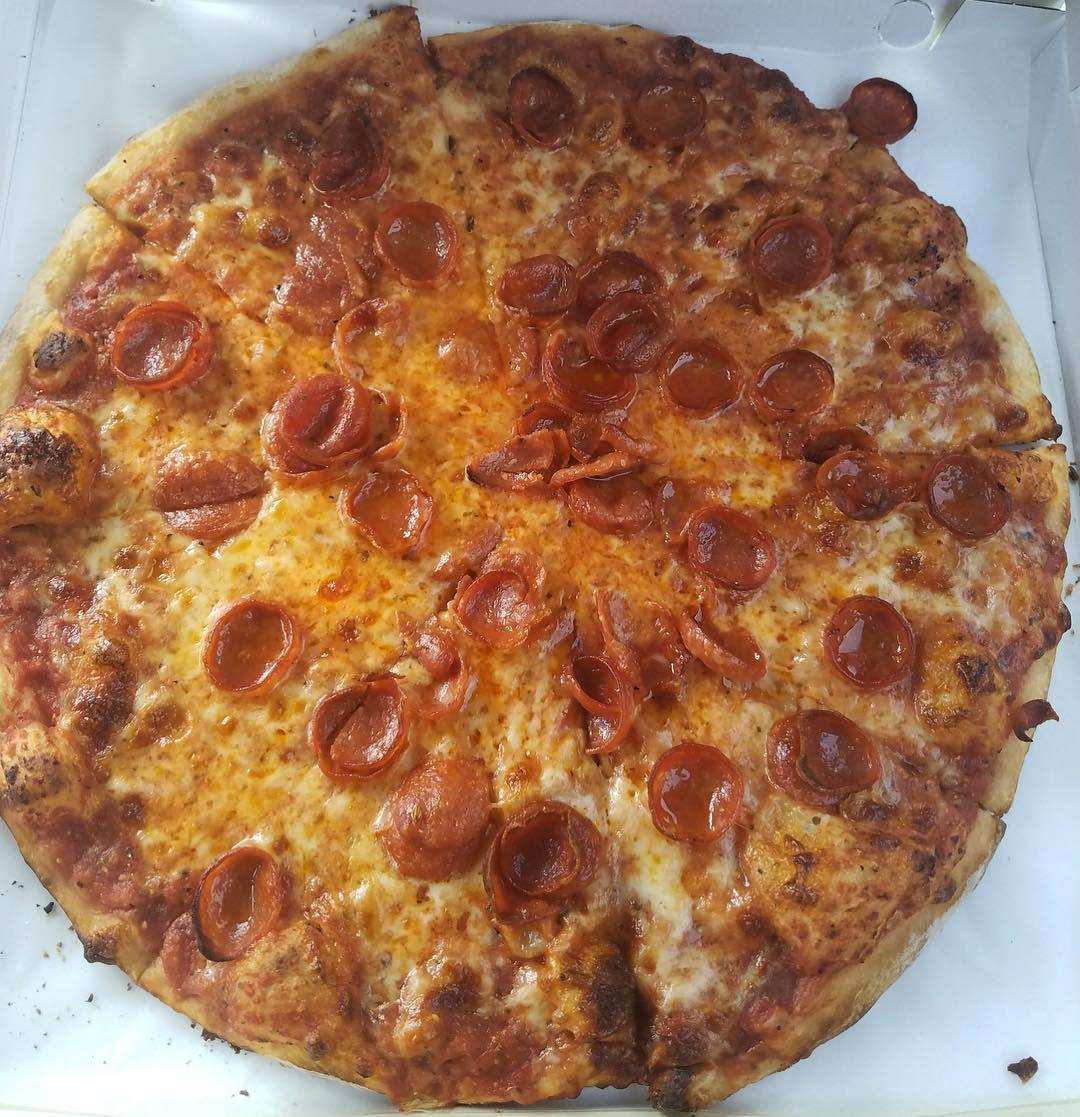Ham: (466, 402, 651, 531), (379, 758, 490, 884), (489, 802, 601, 920), (263, 374, 406, 457), (766, 712, 877, 808), (195, 843, 282, 961), (108, 301, 213, 391), (202, 599, 299, 694), (598, 586, 679, 697), (160, 451, 263, 538), (313, 683, 408, 777), (650, 744, 739, 843), (373, 200, 458, 287), (546, 331, 633, 414), (346, 468, 435, 549), (691, 509, 778, 591), (819, 448, 911, 525), (831, 598, 913, 684), (930, 456, 1012, 539), (310, 113, 389, 199), (586, 294, 674, 370), (567, 658, 634, 752), (662, 340, 744, 415), (680, 609, 763, 682), (460, 570, 535, 649), (752, 216, 828, 289), (508, 68, 579, 145), (651, 477, 731, 544), (751, 352, 835, 414), (579, 253, 663, 312), (494, 259, 577, 313), (636, 81, 707, 141), (847, 78, 914, 141)
Pizza: (0, 28, 1067, 1105)
